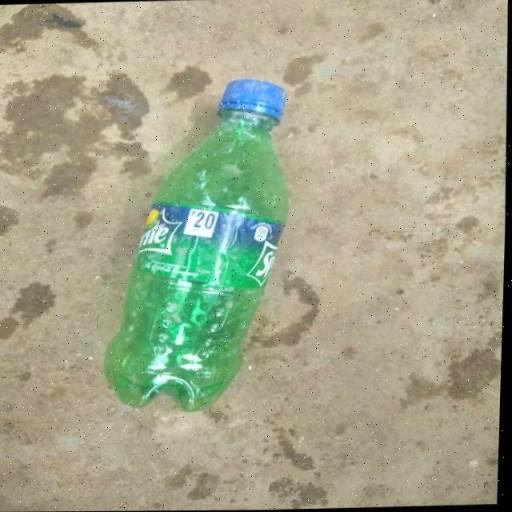plastic: (105, 74, 303, 416)
